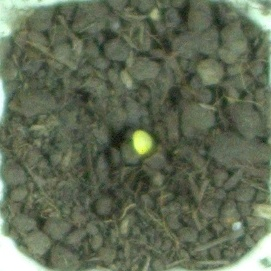pepper seed: (51, 49, 208, 207)
